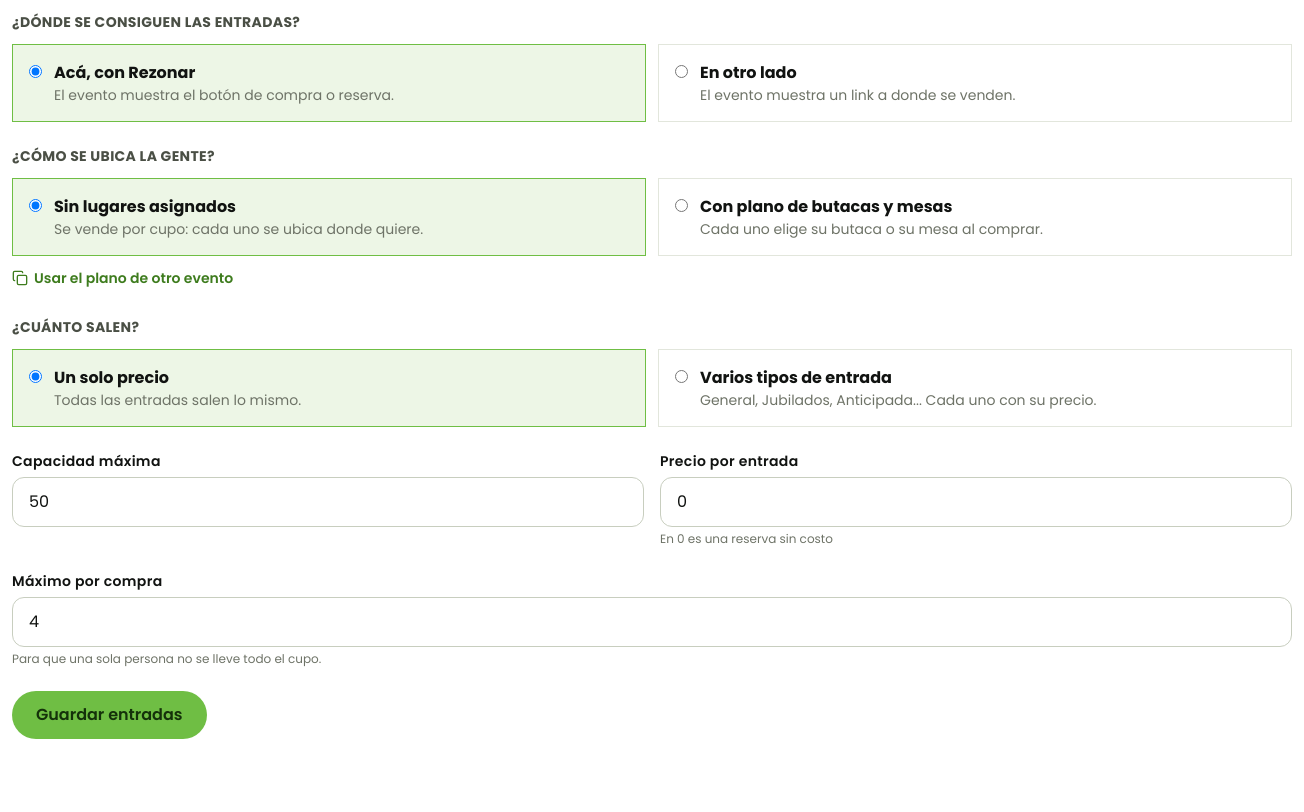
Test: PanelEntradas › guardar el link › si el link falla no apaga la venta
Click the radio button labelled "En otro lado El evento muestra un link a donde se venden.". click: (682, 72)
box: left=675, top=65, right=688, bottom=78
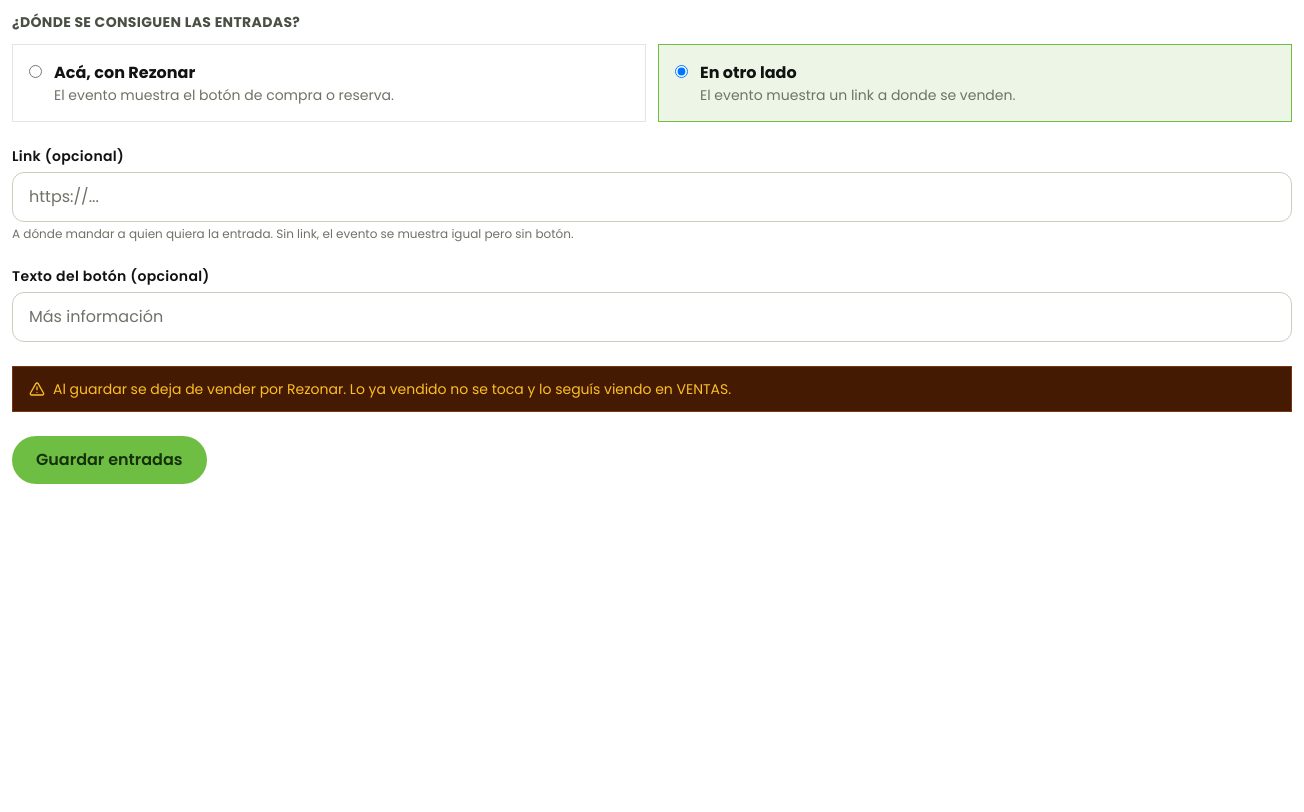
Click the button "Guardar entradas". click: (109, 460)
box: left=12, top=436, right=206, bottom=484
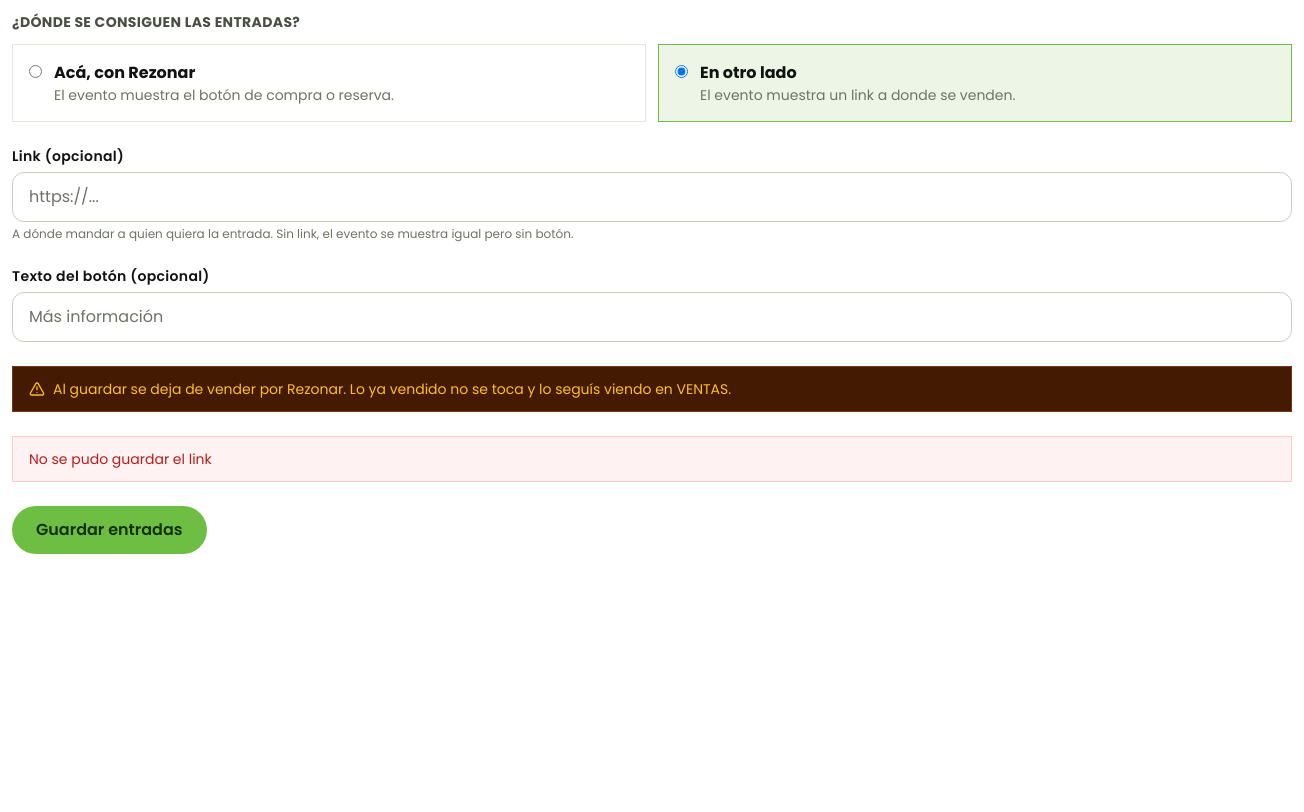
Result: the text "No se pudo guardar el link" is shown at left=12, top=436, right=1292, bottom=482
